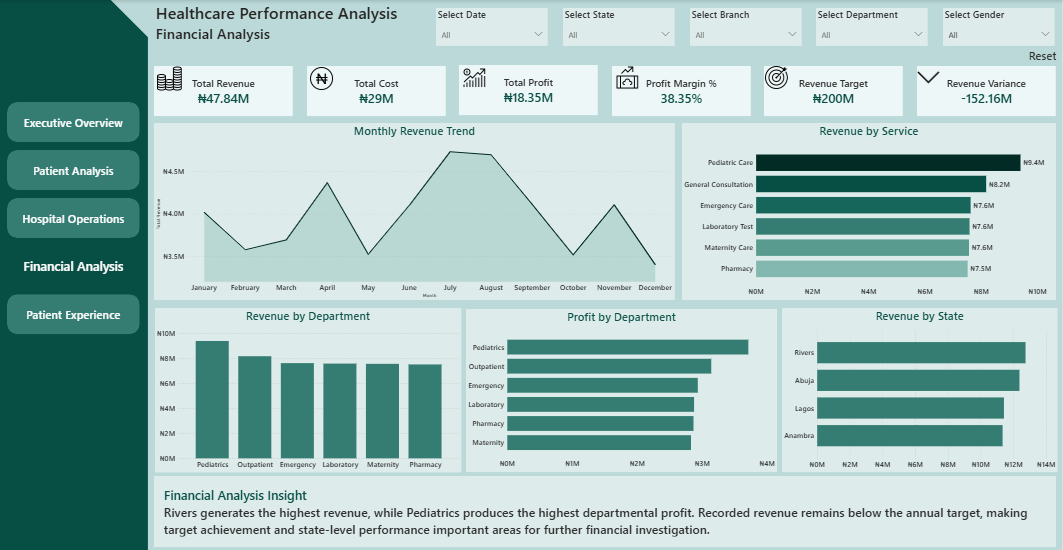

What the dashboard file says about the page in this screenshot:
{"tool":"powerbi","page":{"name":"Financial Analysis","canvas":[3140,1625],"ordinal":3},"visuals":[{"type":"cardVisual","fields":{"Data":["Date_Table.Total Revenue"]},"box":[455,193.7,410,148],"z":0},{"type":"cardVisual","fields":{"Data":["Date_Table.Total Cost"]},"box":[905.9,193.7,410,148],"z":1000},{"type":"cardVisual","fields":{"Data":["Date_Table.Total Profit"]},"box":[1356.7,193.3,410,148.4],"z":2000},{"type":"shape","box":[0,0,437.3,1625],"z":3000},{"type":"barChart","title":"Profit by Department","fields":{"Category":["Patient_Visits.Department"],"Y":["Date_Table.Total Profit"]},"box":[1376.9,913,918.9,481.6],"z":4000},{"type":"clusteredColumnChart","title":"Revenue by Department","fields":{"Category":["Patient_Visits.Department"],"Y":["Date_Table.Total Revenue"]},"box":[458.8,909.1,904.9,486.2],"z":5000},{"type":"lineChart","title":"Monthly Revenue Trend","fields":{"Category":["Date_Table.Month"],"Y":["Date_Table.Total Revenue"]},"box":[455,363.4,1539.3,523],"z":6000},{"type":"barChart","title":"Revenue by Service","fields":{"Category":["Patient_Visits.Service"],"Y":["Date_Table.Total Revenue"]},"box":[2015,363.4,1105,523],"z":7000},{"type":"textbox","box":[455,0,783.9,161.3],"z":8000},{"type":"slicer","title":"Select Date","fields":{"Values":["Date_Table.Date"]},"box":[1288.2,23.5,330,112.3],"z":9000},{"type":"slicer","title":"Select State","fields":{"Values":["Patient_Visits.State"]},"box":[1662.8,23.5,330,112.3],"z":10000},{"type":"slicer","title":"Select Branch","fields":{"Values":["Patient_Visits.Branch"]},"box":[2037.4,23.5,330,112.3],"z":11000},{"type":"slicer","title":"Select Department","fields":{"Values":["Patient_Visits.Department"]},"box":[2412,23.6,330,112.3],"z":12000},{"type":"slicer","title":"Select Gender","fields":{"Values":["Patient_Visits.Gender"]},"box":[2786.6,23.5,330,112.3],"z":13000},{"type":"cardVisual","fields":{"Data":["Date_Table.Profit Margin %","Date_Table.Profit Margin %"]},"box":[1807.6,193.7,410,148],"z":14000},{"type":"cardVisual","fields":{"Data":["Date_Table.Revenue Target"]},"box":[2258.5,193.7,410,148],"z":15000},{"type":"cardVisual","fields":{"Data":["Date_Table.Revenue Variance"]},"box":[2709.3,195,410,148],"z":16000},{"type":"image","box":[458,195,85,73.9],"z":17000},{"type":"image","box":[1359.1,192,85,73.9],"z":18000},{"type":"image","box":[1811.1,192,85,73.9],"z":19000},{"type":"image","box":[2252,192.5,85,73.9],"z":20000},{"type":"barChart","title":"Revenue by State","fields":{"Category":["Patient_Visits.State"],"Y":["Date_Table.Total Revenue"]},"box":[2309,909.1,813.7,485],"z":21000},{"type":"cardVisual","fields":{"Data":["Date_Table.Financial Insight"]},"box":[455,1406.4,2665,210],"z":22000},{"type":"image","box":[2701.1,192.5,85,73],"z":23000},{"type":"image","box":[907,195,85.7,73.9],"z":24000},{"type":"pageNavigator","box":[20.7,301.4,392,688],"z":25000},{"type":"actionButton","box":[3018.2,136.4,122,53],"z":26000}]}

Visuals, with their boxes on the page's 3140x1625 design canvas (x1, y1, x2, y2). These are canvas units, not pixel positions in the 1063x550 screenshot, which may show the page scaled, cropped or inside an application window:
cardVisual - Date_Table.Total Revenue: l=455, t=194, r=865, b=342
cardVisual - Date_Table.Total Cost: l=906, t=194, r=1316, b=342
cardVisual - Date_Table.Total Profit: l=1357, t=193, r=1767, b=342
shape: l=0, t=0, r=437, b=1625
"Profit by Department" barChart: l=1377, t=913, r=2296, b=1395
"Revenue by Department" clusteredColumnChart: l=459, t=909, r=1364, b=1395
"Monthly Revenue Trend" lineChart: l=455, t=363, r=1994, b=886
"Revenue by Service" barChart: l=2015, t=363, r=3120, b=886
textbox: l=455, t=0, r=1239, b=161
"Select Date" slicer: l=1288, t=24, r=1618, b=136
"Select State" slicer: l=1663, t=24, r=1993, b=136
"Select Branch" slicer: l=2037, t=24, r=2367, b=136
"Select Department" slicer: l=2412, t=24, r=2742, b=136
"Select Gender" slicer: l=2787, t=24, r=3117, b=136
cardVisual - Date_Table.Profit Margin % x Date_Table.Profit Margin %: l=1808, t=194, r=2218, b=342
cardVisual - Date_Table.Revenue Target: l=2258, t=194, r=2668, b=342
cardVisual - Date_Table.Revenue Variance: l=2709, t=195, r=3119, b=343
image: l=458, t=195, r=543, b=269
image: l=1359, t=192, r=1444, b=266
image: l=1811, t=192, r=1896, b=266
image: l=2252, t=192, r=2337, b=266
"Revenue by State" barChart: l=2309, t=909, r=3123, b=1394
cardVisual - Date_Table.Financial Insight: l=455, t=1406, r=3120, b=1616
image: l=2701, t=192, r=2786, b=266
image: l=907, t=195, r=993, b=269
pageNavigator: l=21, t=301, r=413, b=989
actionButton: l=3018, t=136, r=3140, b=189
